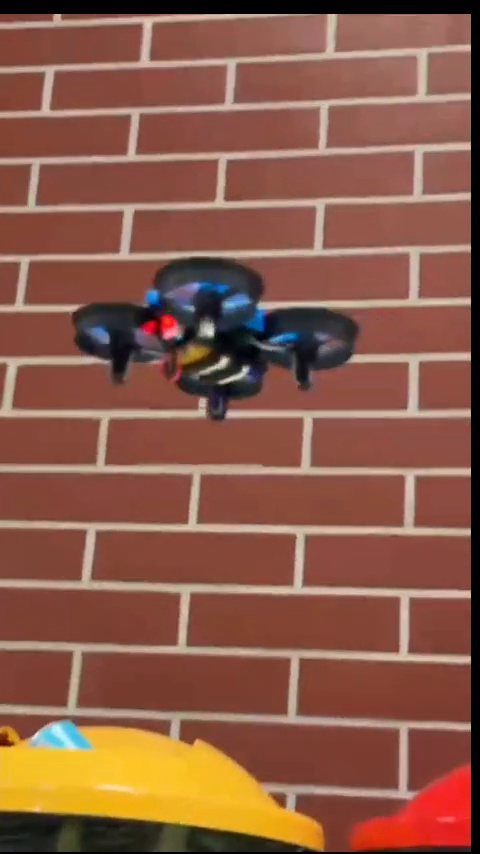drone: (75, 258, 363, 419)
